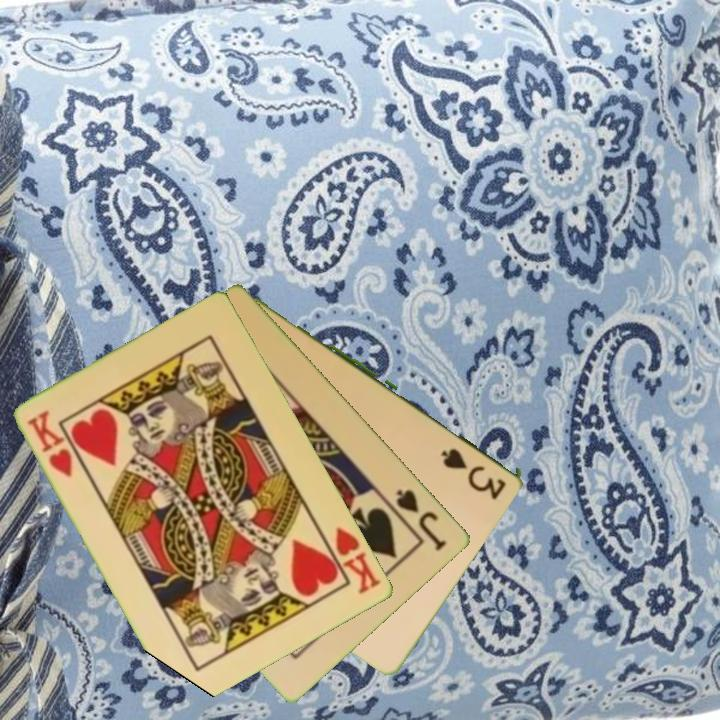3s: (437, 444, 510, 499)
Js: (392, 485, 451, 554)
Kh: (318, 523, 384, 597), (24, 407, 76, 481)
